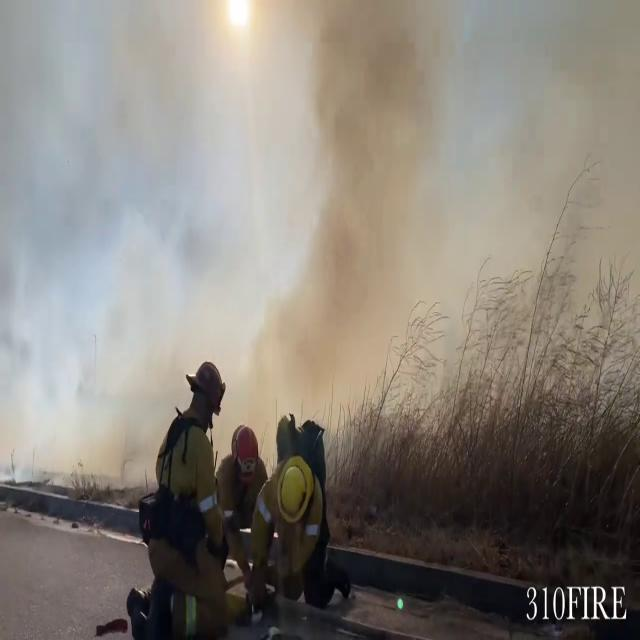Smoke: (89, 0, 638, 485)
